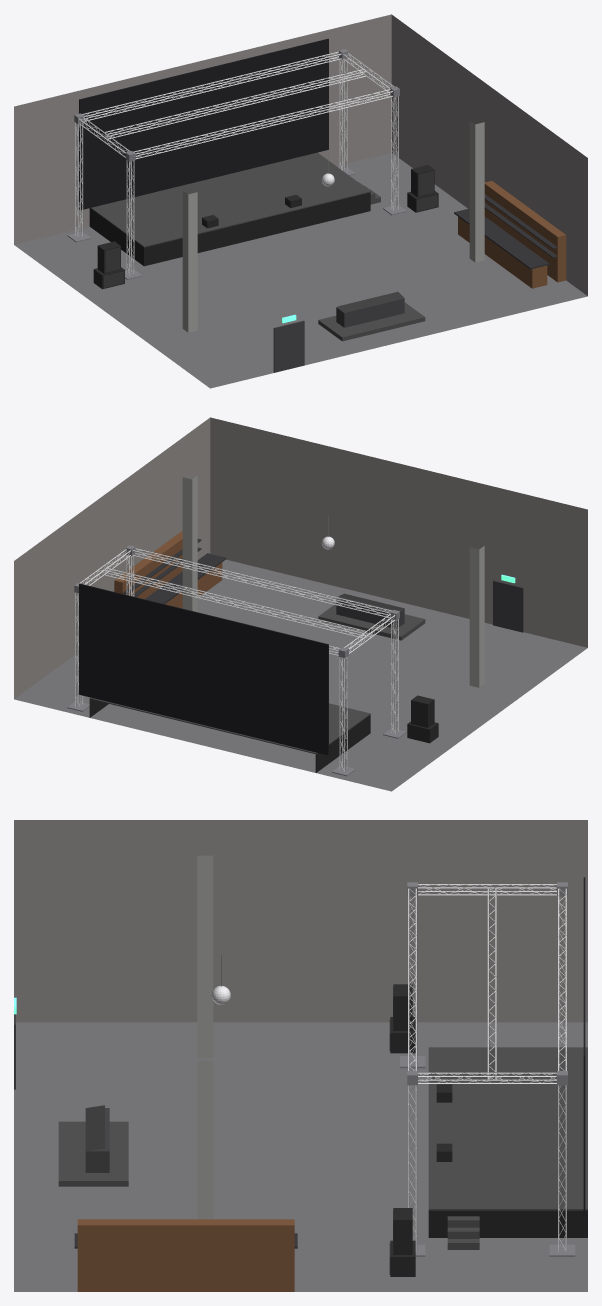
Rendered from demo-club.glb.
3 renders of one model, top to bottom at view 1: azimuth 30°, elevation 25°; view 2: azimuth 150°, elevation 25°; view 3: azimuth 270°, elevation 25°, orthographic. The views are drawn at different scales.
Visible parts, largest first — view 1: Floor, Walls, Backdrop, Stage, Truss, Bar, Columns, FOH, PA; view 2: Walls, Floor, Backdrop, Truss, Columns, Bar, Stage, FOH, PA; view 3: Walls, Floor, Stage, Bar, Truss, Columns, FOH, PA, Backdrop.
Boxes of the visible parts, x1,y1,x2,y2 form: Floor: (14, 153, 587, 388); Walls: (14, 14, 587, 372); Backdrop: (79, 38, 328, 210); Stage: (89, 152, 380, 266); Truss: (67, 49, 406, 279); Bar: (454, 181, 566, 288); Columns: (182, 120, 484, 332); FOH: (318, 291, 425, 341); PA: (93, 165, 438, 289); Walls: (14, 417, 587, 698); Floor: (14, 559, 587, 791); Backdrop: (79, 583, 328, 755); Truss: (67, 545, 406, 776); Columns: (182, 476, 484, 687); Bar: (114, 531, 226, 608); Stage: (89, 697, 370, 772); FOH: (318, 593, 425, 640); PA: (407, 695, 438, 743); Walls: (14, 820, 587, 1089); Floor: (14, 1022, 587, 1291); Stage: (428, 1047, 587, 1249); Bar: (74, 1219, 297, 1291); Truss: (400, 882, 575, 1256); Columns: (197, 855, 213, 1219); FOH: (58, 1105, 128, 1186); PA: (389, 984, 415, 1276); Backdrop: (583, 877, 585, 1217).
Bounding box in the file's own units: 20 × 7 × 18.
